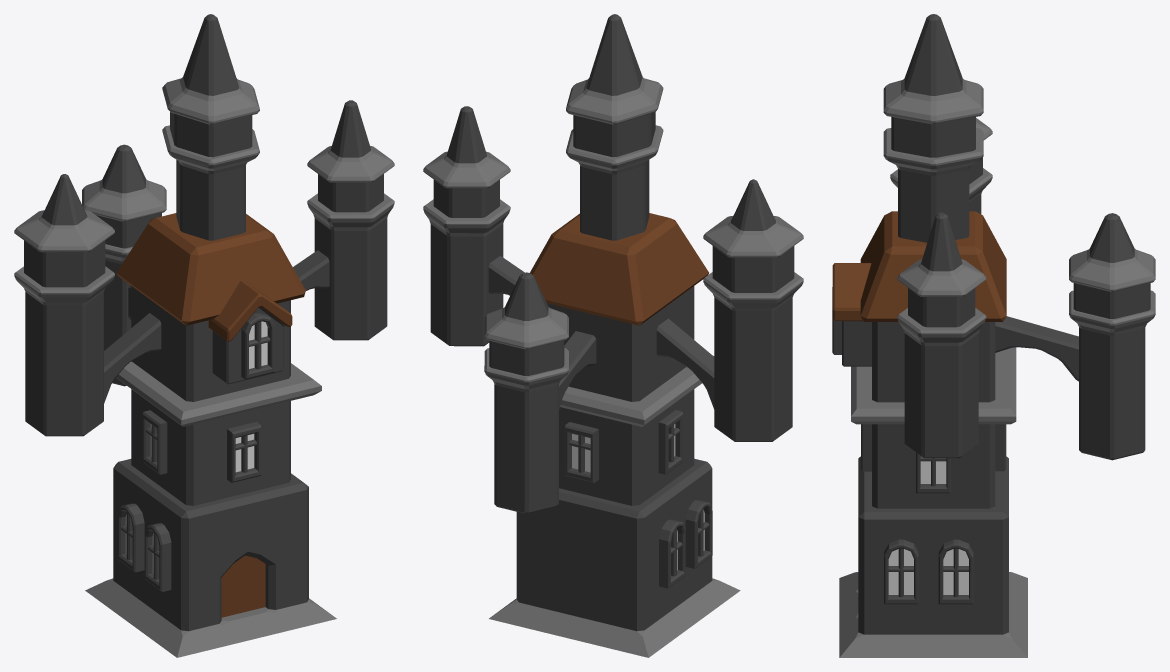
File: VampireCastle.fbx
3 views of the same model, side by side, from view 1: azimuth 30°, elevation 25°; view 2: azimuth 150°, elevation 25°; view 3: azimuth 270°, elevation 25° (orthographic). The views are drawn at different scales.
Parts seen in each view (by area): view 1: Cube.009; view 2: Cube.009; view 3: Cube.009.
Part boxes in pixels (x1,y1,x2,y2): Cube.009: (14,14,394,657); Cube.009: (423,14,803,657); Cube.009: (832,14,1155,657).
Bounding box in the file's own units: 12.53 × 19.67 × 9.56.
